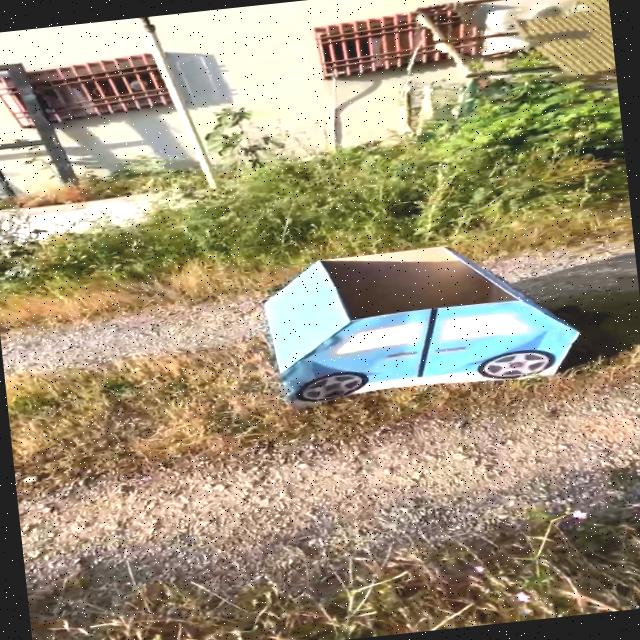blue_car: (219, 201, 640, 433)
